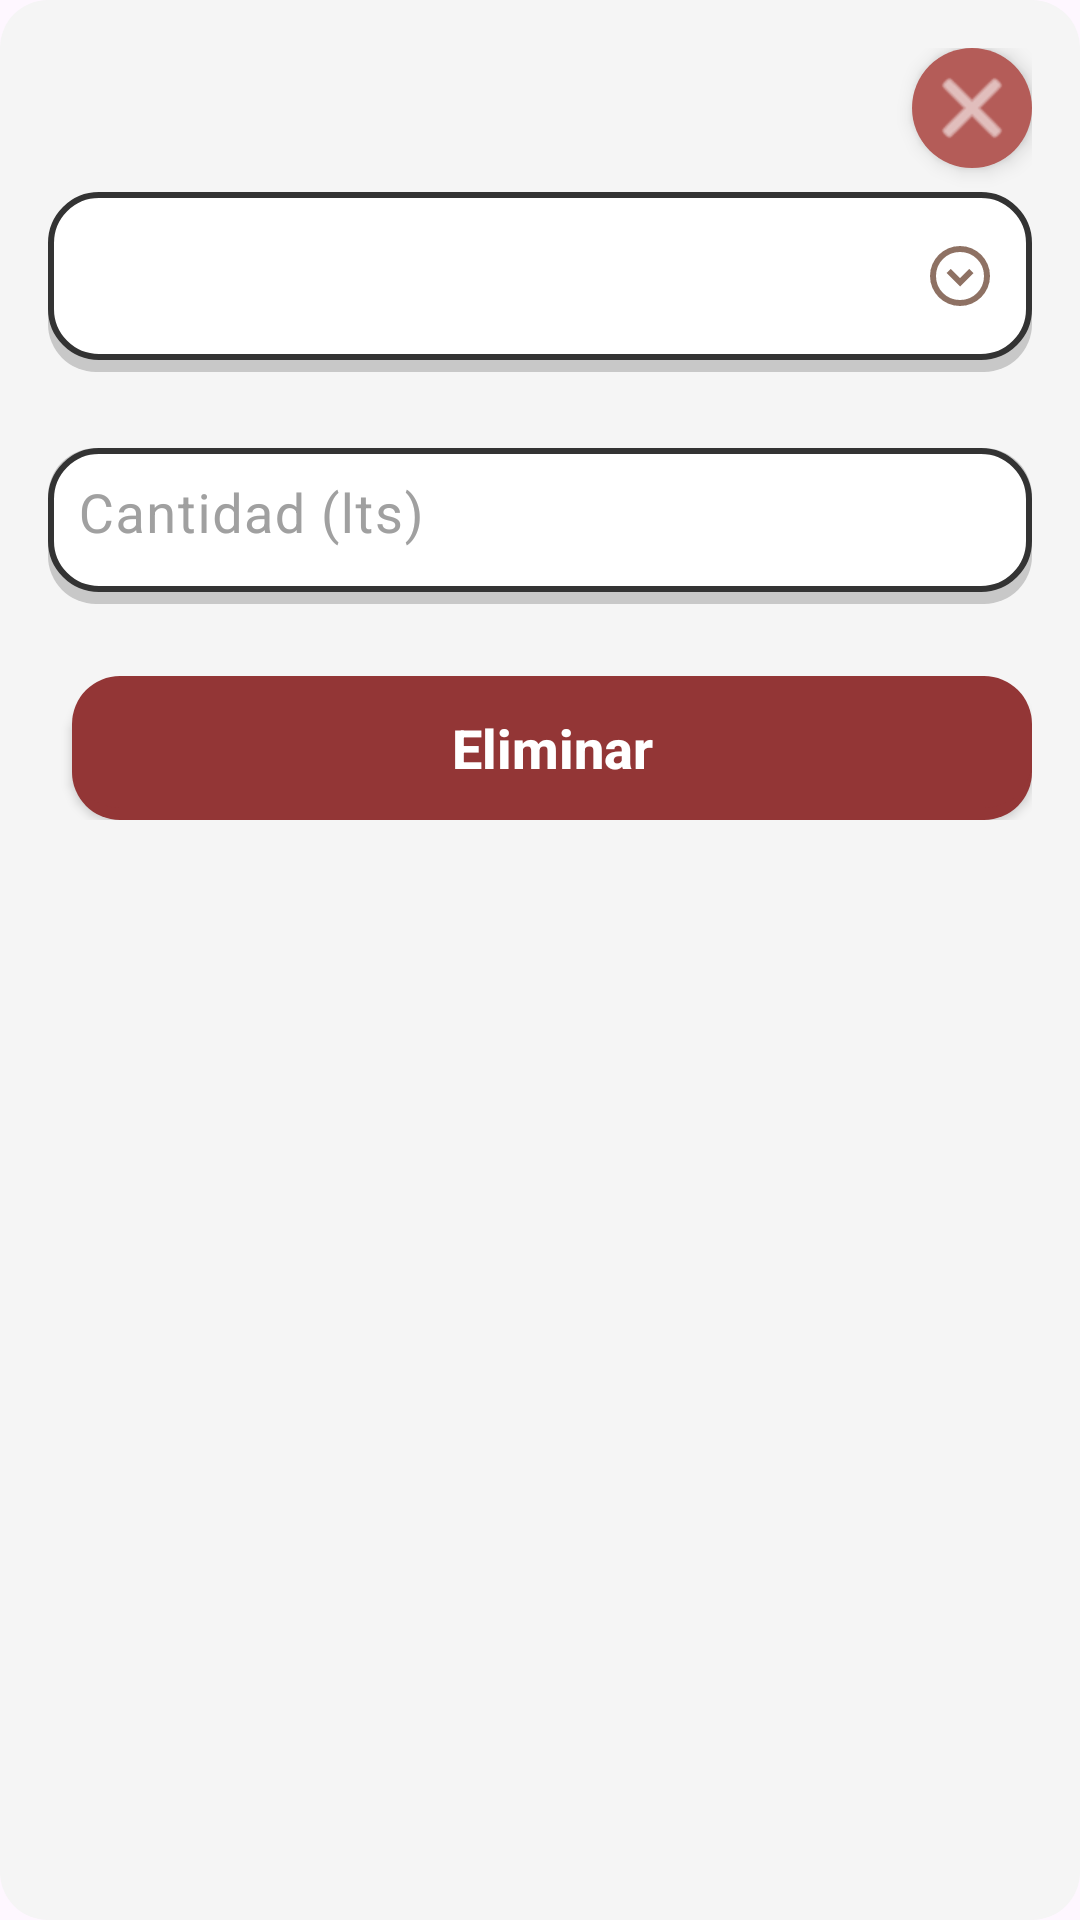

Icons on this 1080w x 1920h Android screen, each with the point to tap as point (x, y):
close clear cancel: point (972, 108)
